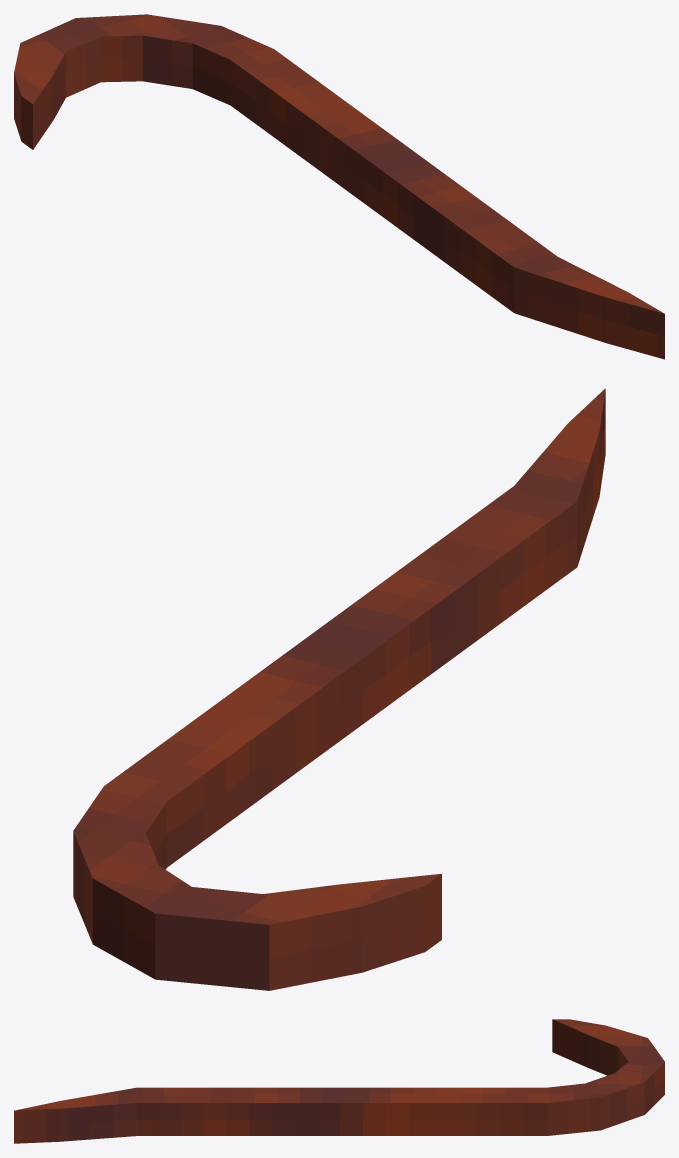
The model's file is crowbar.gltf.
3 renders of one model, top to bottom at view 1: azimuth 30°, elevation 25°; view 2: azimuth 150°, elevation 25°; view 3: azimuth 270°, elevation 25°, orthographic. The views are drawn at different scales.
Visible parts, largest first — view 1: cuboid; view 2: cuboid; view 3: cuboid.
Boxes of the visible parts, left/top/right/bottom form: cuboid: left=14, top=14, right=664, bottom=359; cuboid: left=73, top=388, right=605, bottom=990; cuboid: left=14, top=1019, right=664, bottom=1143.
Size of the model in its own units: 0.2967 by 0.05 by 0.8925.
1 material, 1 textured.
